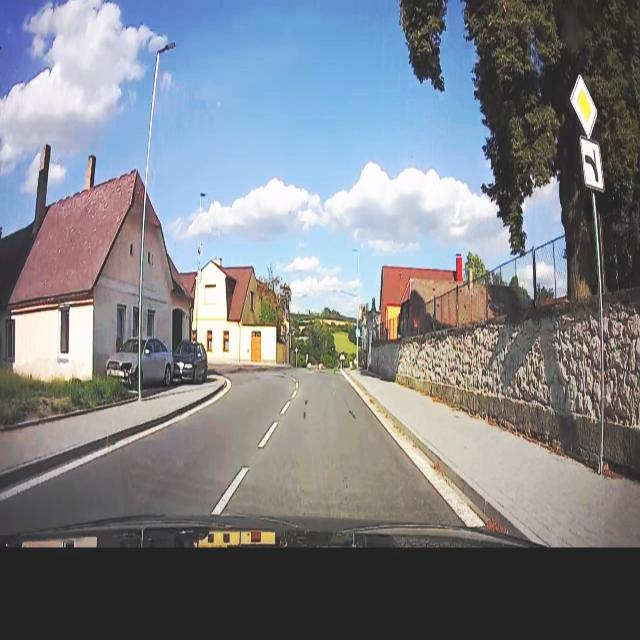Priority road: (570, 72, 601, 140)
